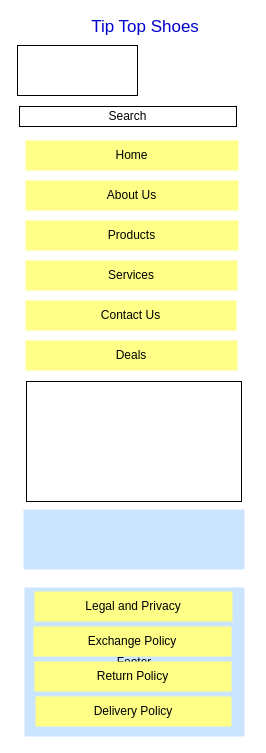
Image size: 266x753. Some labels were removed from this diagram. The centre of each missing label's shape, as x and y in pixels:
Logo: the point at 77,70
Rotating Banner: the point at 134,441
Text: the point at 133,539
